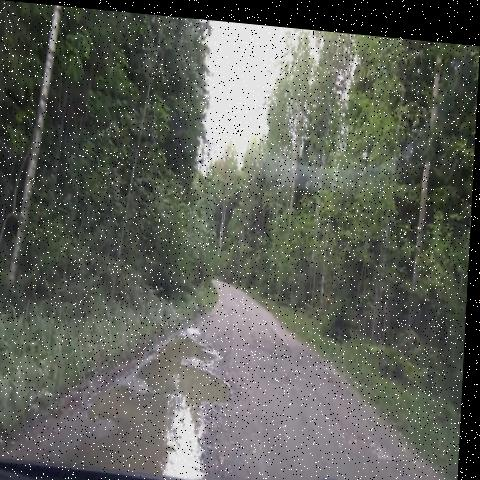pothole: (64, 316, 268, 480), (326, 399, 405, 457), (263, 334, 333, 387)
